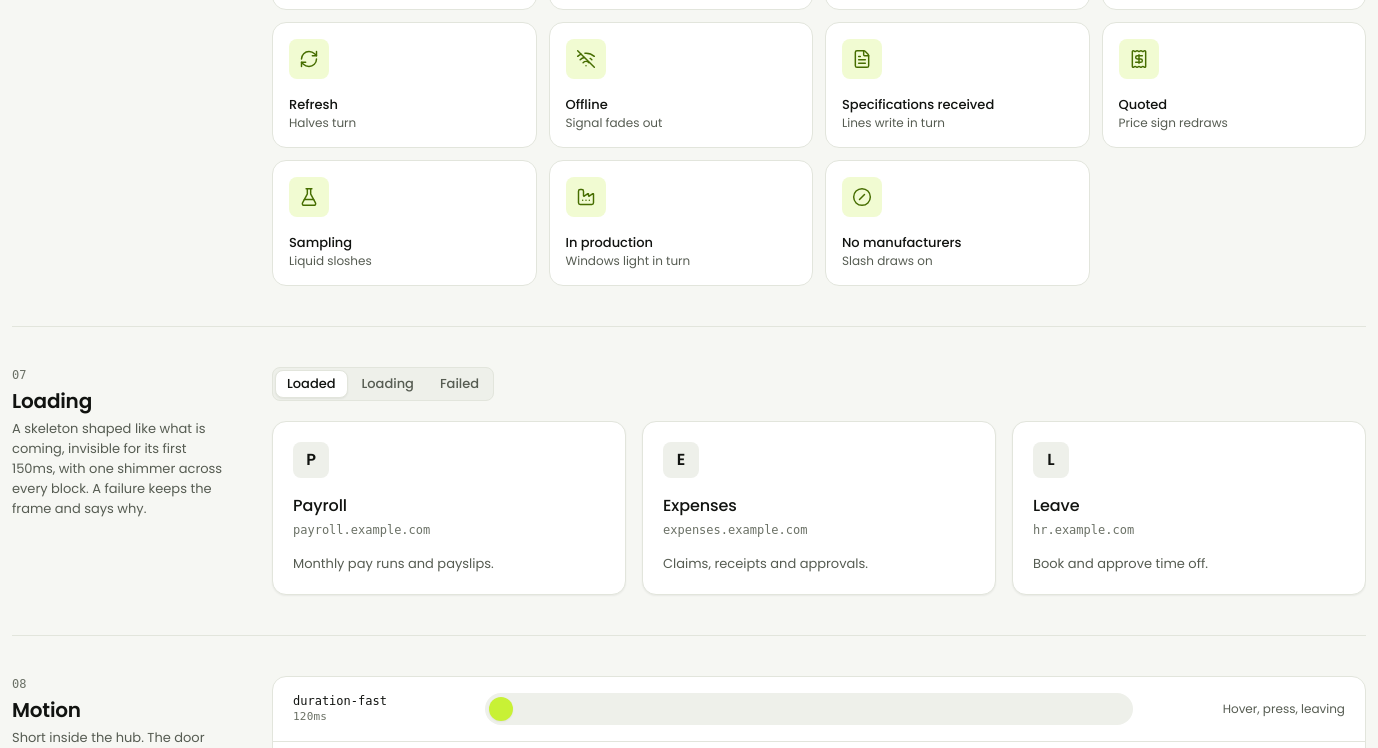
ThemePage › shows the error state when the sample fails, and recovers on Try again
(page scrolled)
Click the radio button labelled "Failed". click: (460,384)
box: [428, 370, 491, 398]
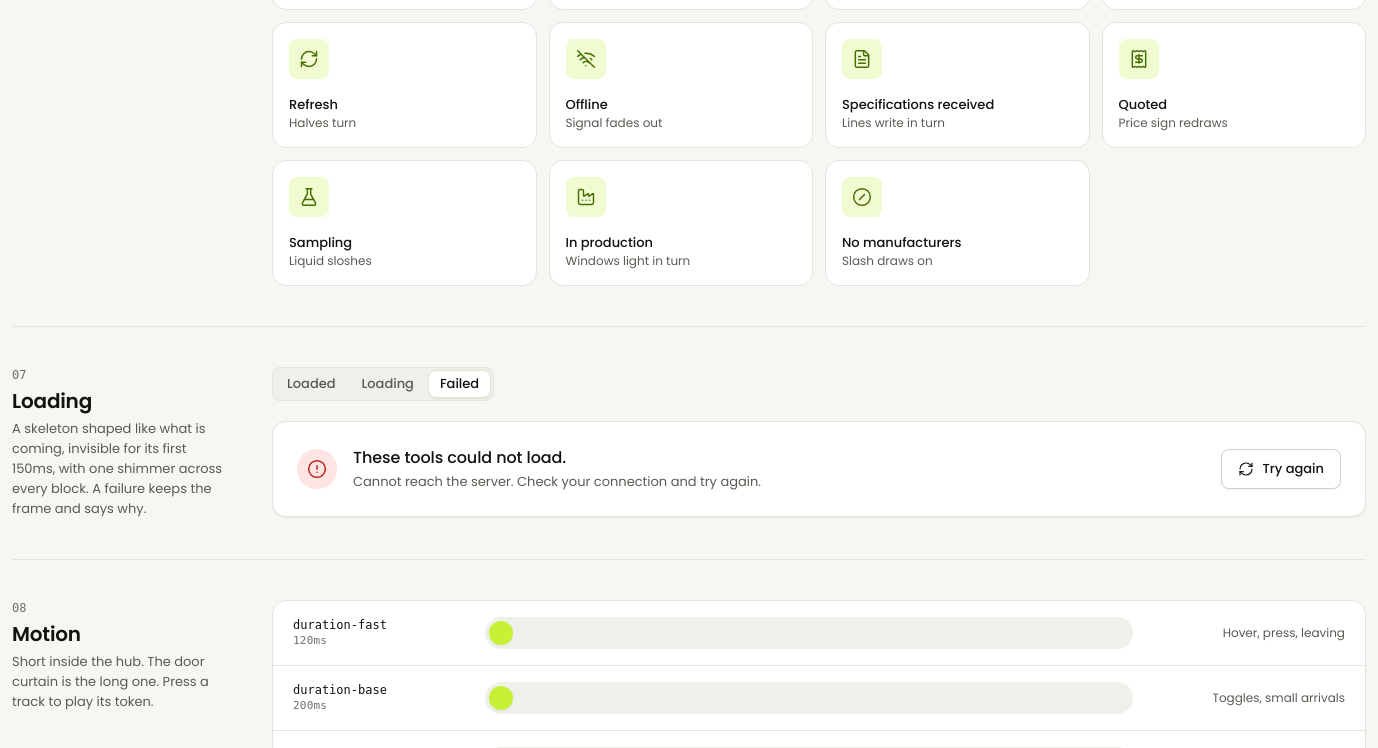
Check: the text "These tools could not load." is shown, box [353, 446, 566, 469]
Click the button "Try again". click: (1281,469)
box: [1221, 449, 1341, 489]
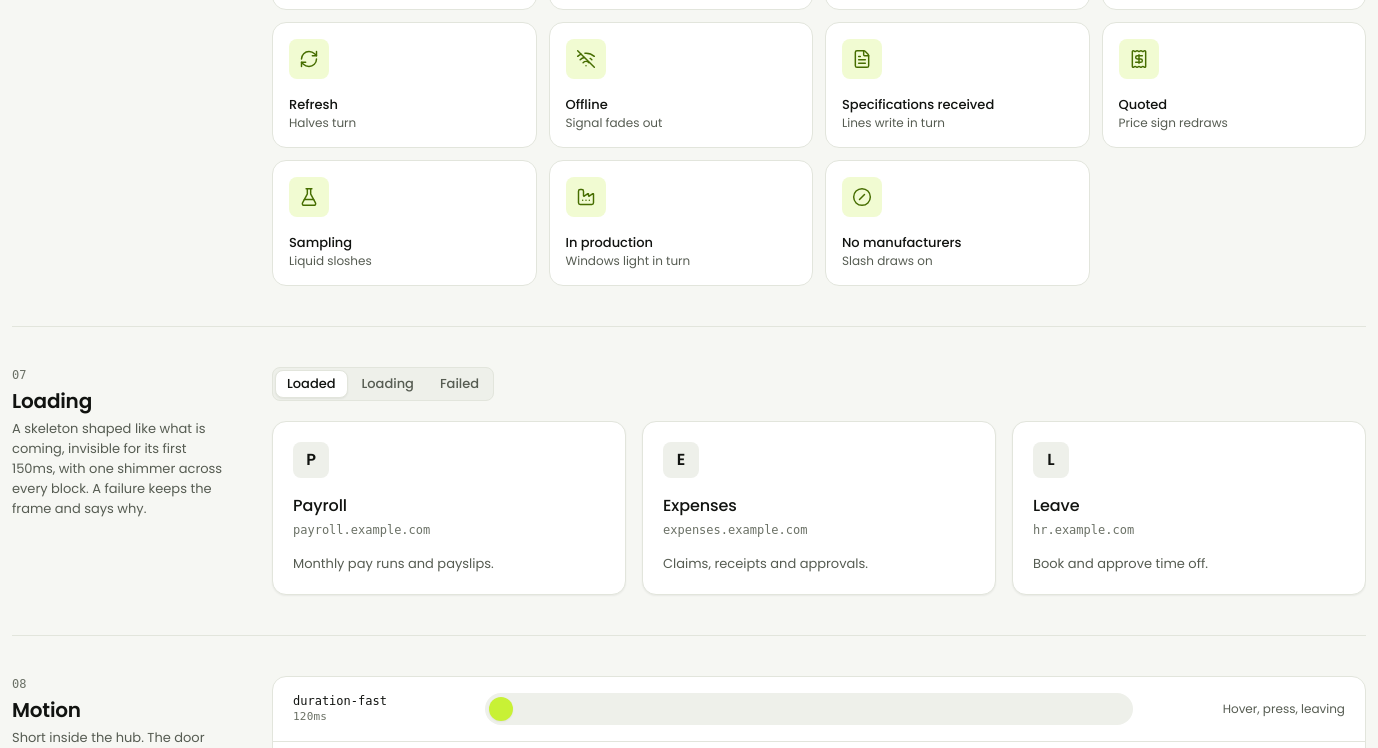
Check: the text "Claims, receipts and approvals." is shown, box [663, 554, 868, 573]
